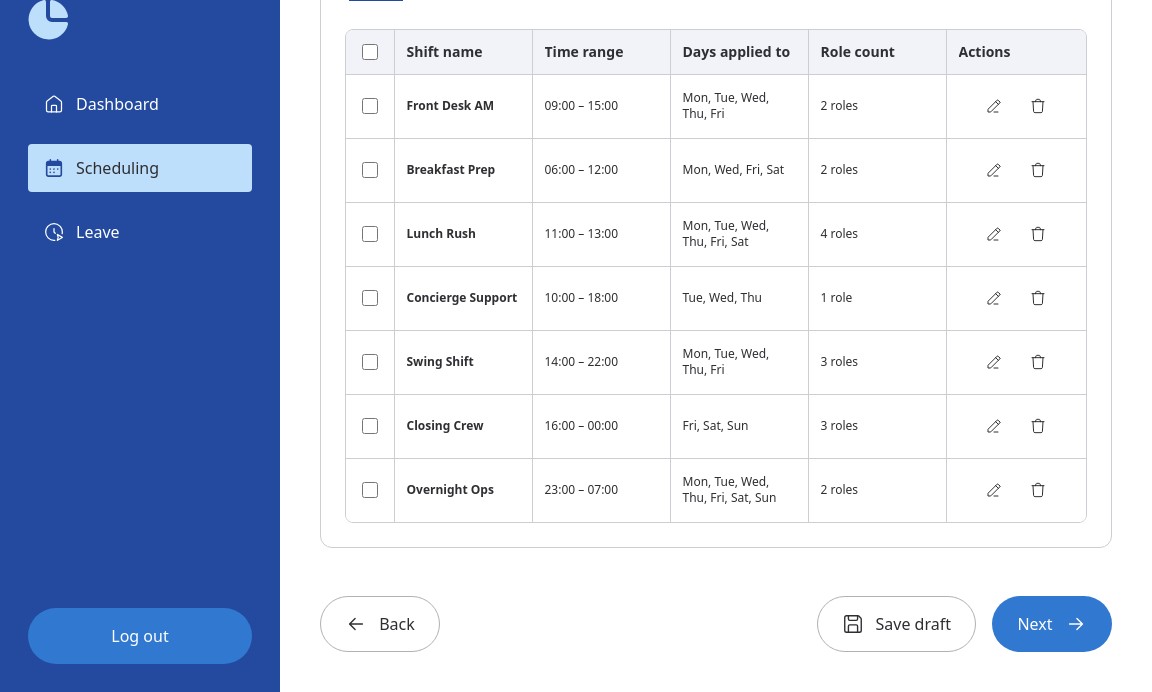
Create Schedule: a reopened draft › given_noShiftsChosen_when_nextClicked_then_staysAndSaysWhy
(page scrolled)
Expected: the row "Front Desk AM 09:00 – 15:00 Mon, Tue, Wed, Thu, Fri 2 roles" is shown, 346,74 -> 1086,138
Click the button "Next" at (1052, 624), box 992,596 -> 1112,652
(page scrolled)
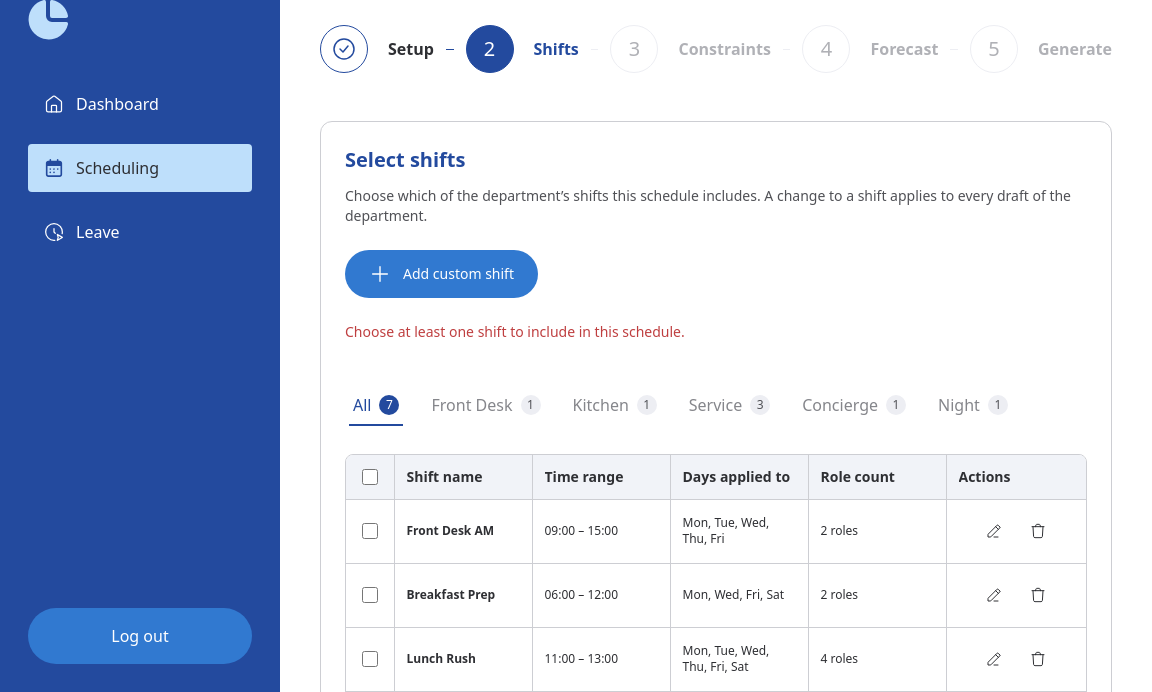
Result: the message reads "Choose at least one shift to include in this schedule." at 345,322 -> 685,341
